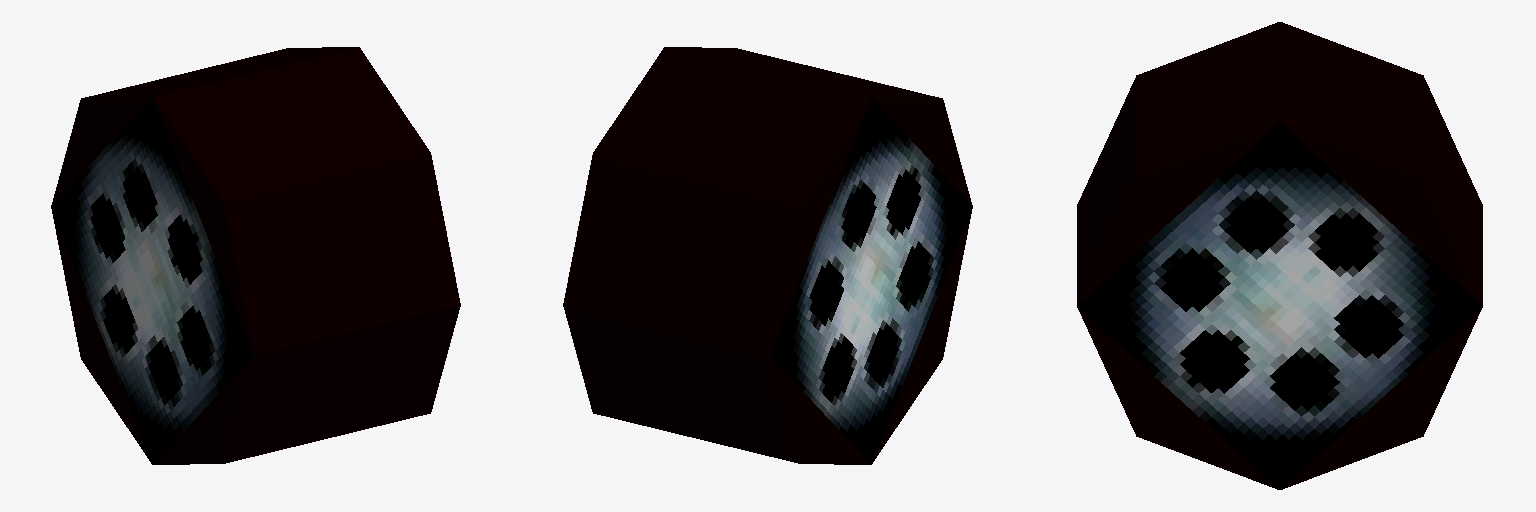
The picture shows the model from 3 angles: view 1: azimuth 30°, elevation 25°; view 2: azimuth 150°, elevation 25°; view 3: azimuth 270°, elevation 25°; orthographic projection.
Parts seen in each view (by area): view 1: WheelFrontR; view 2: WheelFrontR; view 3: WheelFrontR.
Boxes of the visible parts, box(x1,y1,x2,y2) form: WheelFrontR: box(51, 47, 460, 464); WheelFrontR: box(563, 47, 972, 464); WheelFrontR: box(1077, 22, 1482, 489).
Bounding box in the file's own units: 0.64 × 1.09 × 1.09.
2 materials, 1 textured.